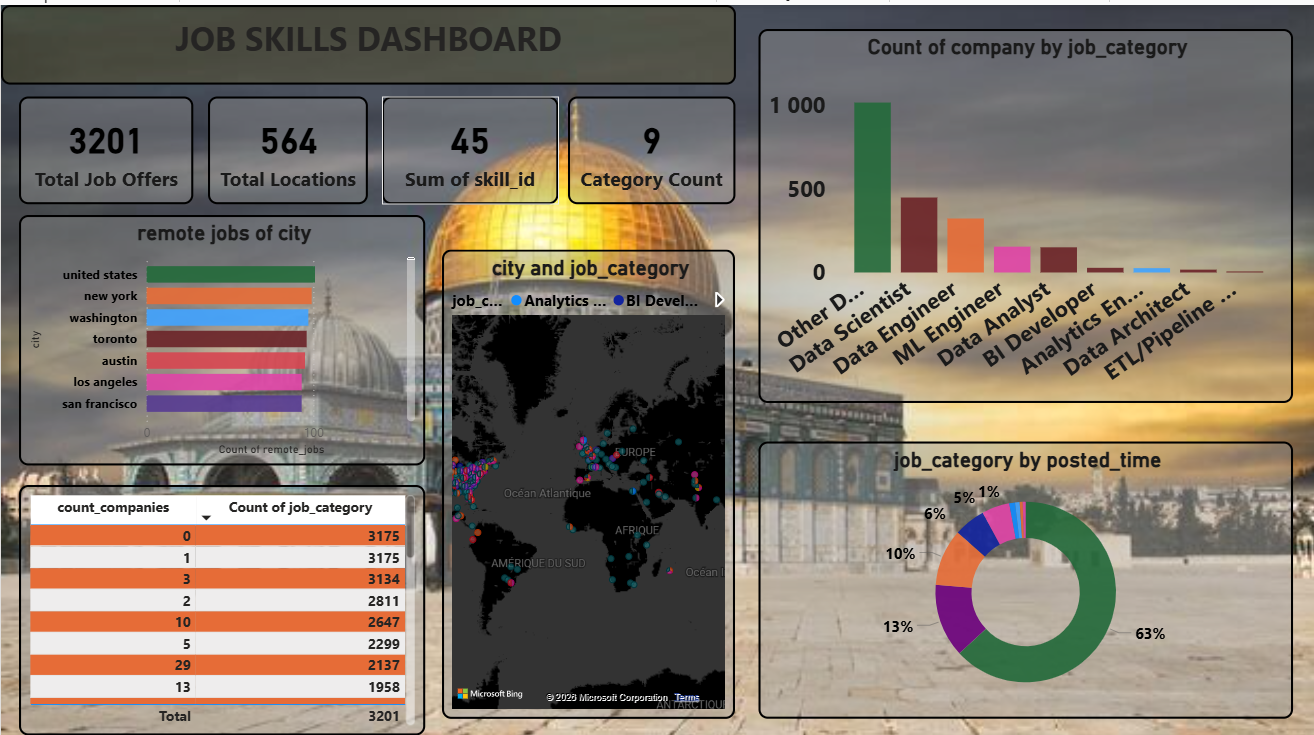

The page's visual inventory and layout, read from the dashboard file:
{"tool":"powerbi","page":{"name":"Page 1","canvas":[1280,720],"ordinal":0},"visuals":[{"type":"textbox","box":[0,0,714.1,77.2],"z":0},{"type":"columnChart","title":"Count of company by job_category","fields":{"Category":["fact_job_offers.job_category"],"Y":["CountNonNull(fact_job_offers.company_id)"]},"box":[735.8,22.7,519.1,363.6],"z":1000},{"type":"donutChart","title":"job_category by posted_time","fields":{"Category":["fact_job_offers.job_category"],"Y":["Sum(fact_job_offers.published_month)"]},"box":[735.8,424.7,519.1,269.2],"z":2000},{"type":"map","fields":{"Category":["dim_location.city"],"Series":["agg_job_offers_by_category_time.job_category"]},"box":[428.2,237.7,284.9,456.2],"z":3000},{"type":"tableEx","title":"count companies by job category","fields":{"Values":["agg_job_offers_by_category_time.count_companies","CountNonNull(fact_job_offers.job_category)"]},"box":[17.5,466.3,394.9,243.4],"z":4000},{"type":"card","fields":{"Values":["fact_job_offers.Total Job Offers"]},"box":[17.5,89.1,169.5,104.9],"z":5000},{"type":"card","fields":{"Values":["dim_location.Total Locations"]},"box":[201,89.1,155.6,104.9],"z":6000},{"type":"card","fields":{"Values":["Sum(dim_skills.skill_id)"]},"box":[370.5,89.1,171.3,104.9],"z":7000},{"type":"card","fields":{"Values":["fact_job_offers.Category Count"]},"box":[550.6,89.1,162.6,104.9],"z":8000},{"type":"clusteredBarChart","title":"remote jobs of city","fields":{"Category":["dim_location.city"],"Y":["CountNonNull(agg_job_offers_by_category_time.remote_jobs)"]},"box":[17.5,204,394.9,243.4],"z":9000}]}

Visuals, with their boxes in screenshot pixels (x1, y1, x2, y2), scaled from the page's 1280x720 canvas onto the 1314x735 screenshot:
textbox: [left=0, top=0, right=733, bottom=79]
"Count of company by job_category" columnChart: [left=755, top=23, right=1288, bottom=394]
"job_category by posted_time" donutChart: [left=755, top=434, right=1288, bottom=708]
map - dim_location.city x agg_job_offers_by_category_time.job_category: [left=440, top=243, right=732, bottom=708]
"count companies by job category" tableEx: [left=18, top=476, right=423, bottom=724]
card - fact_job_offers.Total Job Offers: [left=18, top=91, right=192, bottom=198]
card - dim_location.Total Locations: [left=206, top=91, right=366, bottom=198]
card - Sum(dim_skills.skill_id): [left=380, top=91, right=556, bottom=198]
card - fact_job_offers.Category Count: [left=565, top=91, right=732, bottom=198]
"remote jobs of city" clusteredBarChart: [left=18, top=208, right=423, bottom=457]
